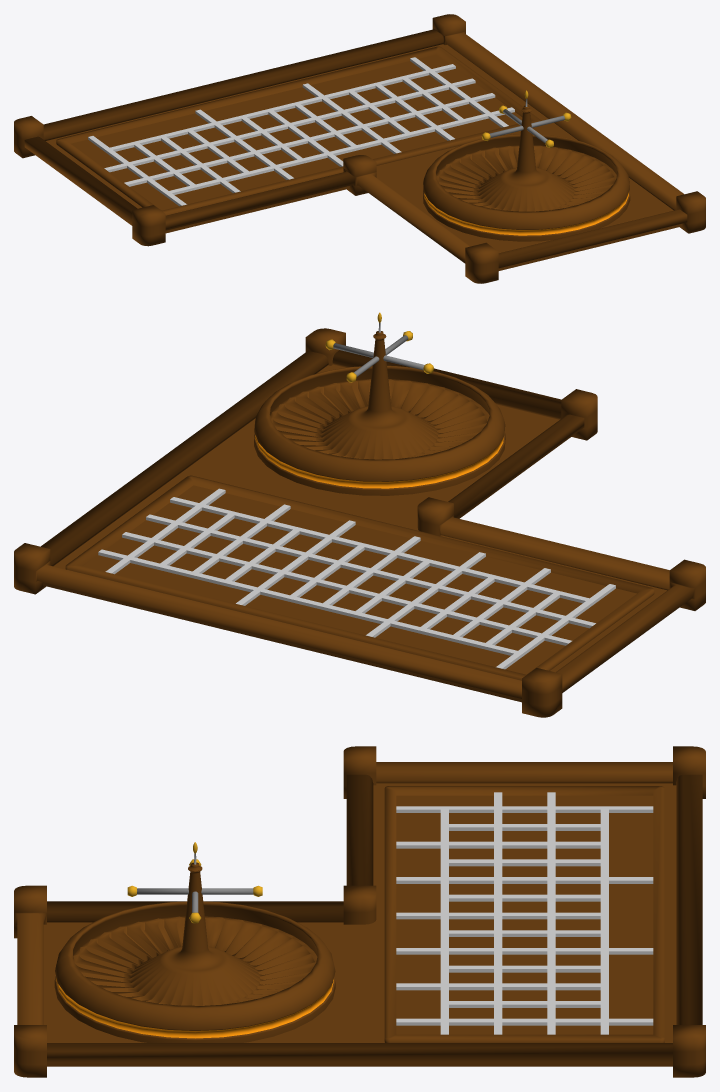
File: tiltableFull.glb
The picture shows the model from 3 angles, top to bottom: view 1: azimuth 30°, elevation 25°; view 2: azimuth 150°, elevation 25°; view 3: azimuth 270°, elevation 25°; orthographic projection. The views are drawn at different scales.
Visible parts, largest first — view 1: base_table, back_corner_wall, wheel, wheel_rim, table_bar_x, table_bar_y, bet_edge, inner_corner_wall, wheel_wall, far_wall, close_corner, far_corner; view 2: base_table, back_corner_wall, wheel, wheel_rim, table_bar_y, bet_edge, table_bar_x, inner_corner_wall, far_wall, wheel_wall, far_corner, close_corner; view 3: base_table, back_corner_wall, wheel, table_bar_x, wheel_rim, bet_edge, table_bar_y, inner_corner_wall, far_wall, wheel_wall, close_corner, far_corner.
Part boxes in pixels (x1,y1,x2,y2): base_table: (46,44,682,270); back_corner_wall: (43,14,683,210); wheel: (436,90,616,211); wheel_rim: (423,134,630,241); table_bar_x: (88,57,508,206); table_bar_y: (104,64,514,194); bet_edge: (56,46,541,215); inner_corner_wall: (165,155,469,263); wheel_wall: (465,209,687,283); far_wall: (24,136,165,246); close_corner: (676,191,705,233); far_corner: (14,116,43,158); base_table: (43,364,666,702); back_corner_wall: (14,350,521,698); wheel: (270,312,489,459); wheel_rim: (254,365,505,495); table_bar_y: (98,497,595,655); bet_edge: (65,475,654,680); table_bar_x: (105,488,615,669); inner_corner_wall: (417,414,669,590); far_wall: (556,559,705,692); wheel_wall: (332,350,597,440); far_corner: (522,668,562,717); close_corner: (305,328,345,365); base_table: (43,783,676,1066); back_corner_wall: (47,774,705,1077); wheel: (73,842,317,1005); table_bar_x: (396,806,653,1025); wheel_rim: (54,901,335,1042); bet_edge: (384,786,664,1042); table_bar_y: (440,792,608,1034); inner_corner_wall: (47,774,376,924); far_wall: (343,746,672,798); wheel_wall: (14,885,46,1024); close_corner: (14,1025,46,1077); far_corner: (673,746,705,798).
Bounding box in the file's own units: 4.2 × 1.07 × 4.2.
